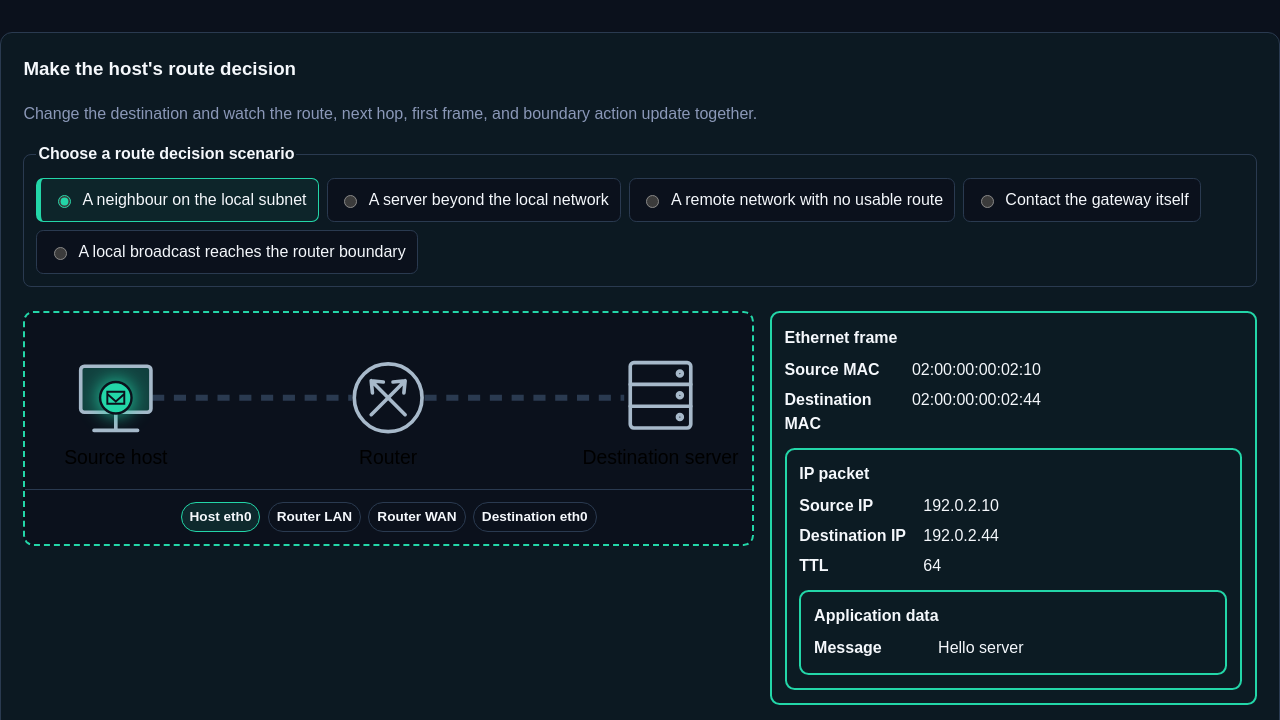
Test: RouteDecisionPlayer › handles the gateway itself and broadcast boundary without stale state
The width and height of the screenshot is (1280, 720).
Click the radio button labelled "Contact the gateway itself".
click(987, 202)  # box top-left (981, 195), bottom-right (994, 208)
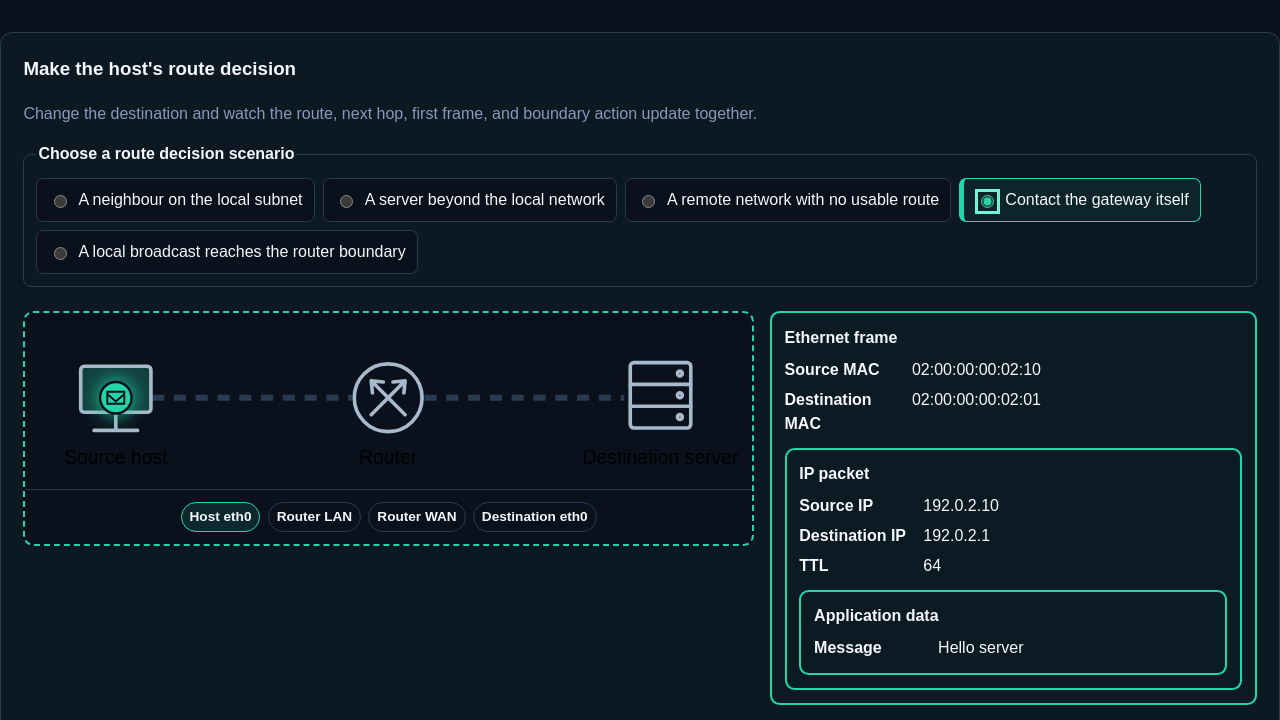
Click the radio button labelled "A local broadcast reaches the router boundary".
click(60, 254)  # box top-left (54, 247), bottom-right (67, 260)
(page scrolled)
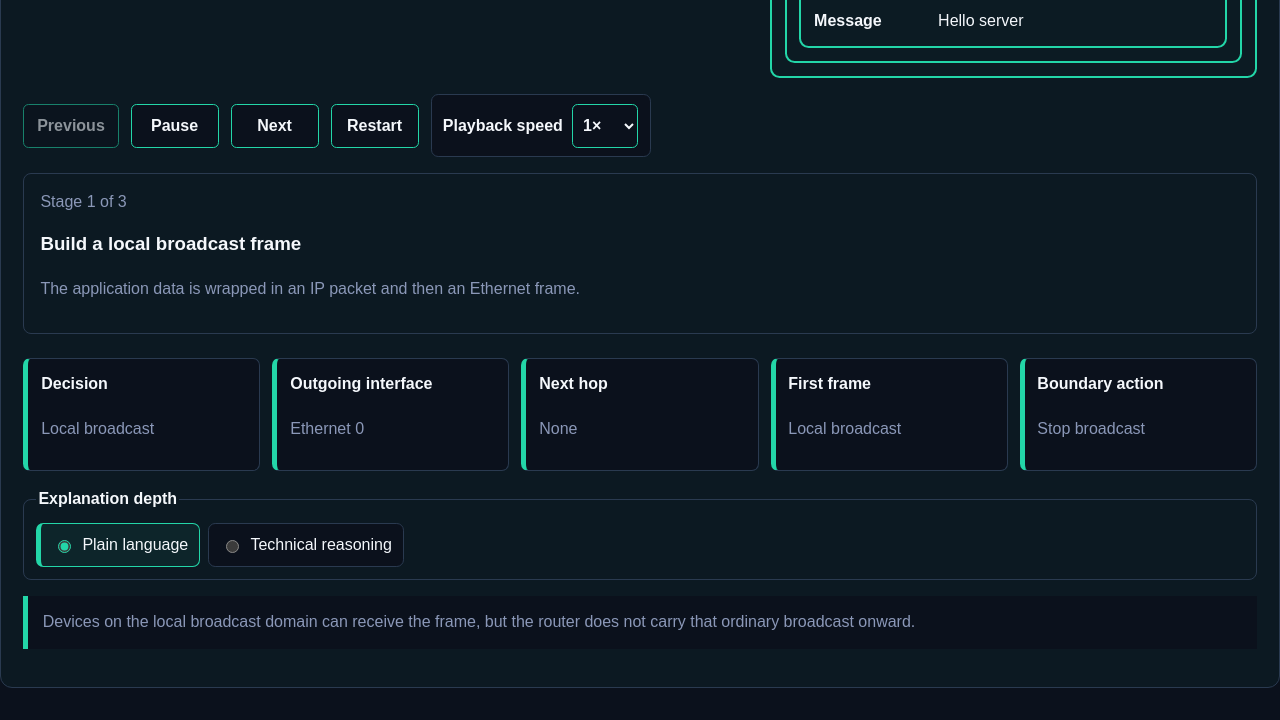
expect the element "Decision" shows "Local broadcast": met, box top-left (41, 420), bottom-right (154, 437)
expect the element "Boundary action" shows "Stop broadcast": met, box top-left (1037, 420), bottom-right (1145, 437)
